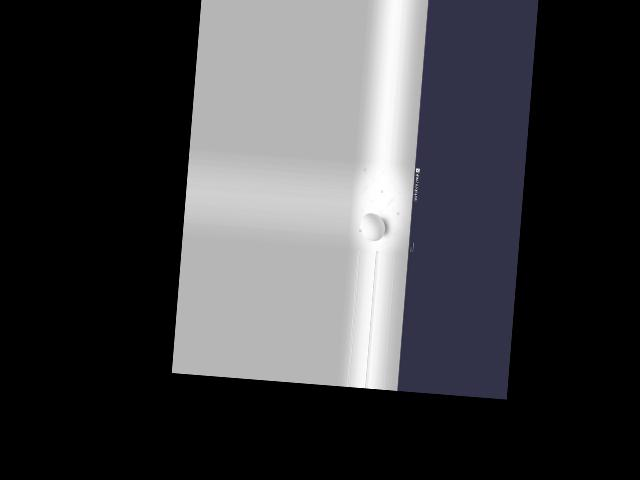egg: (359, 213, 386, 242)
